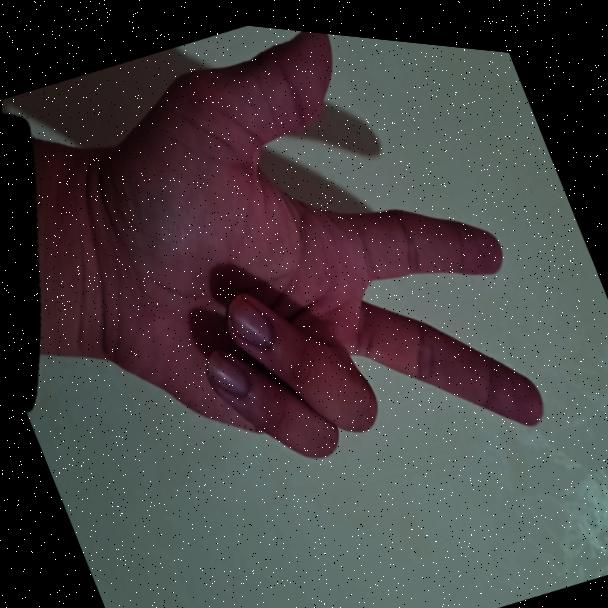three: (24, 2, 576, 572)
